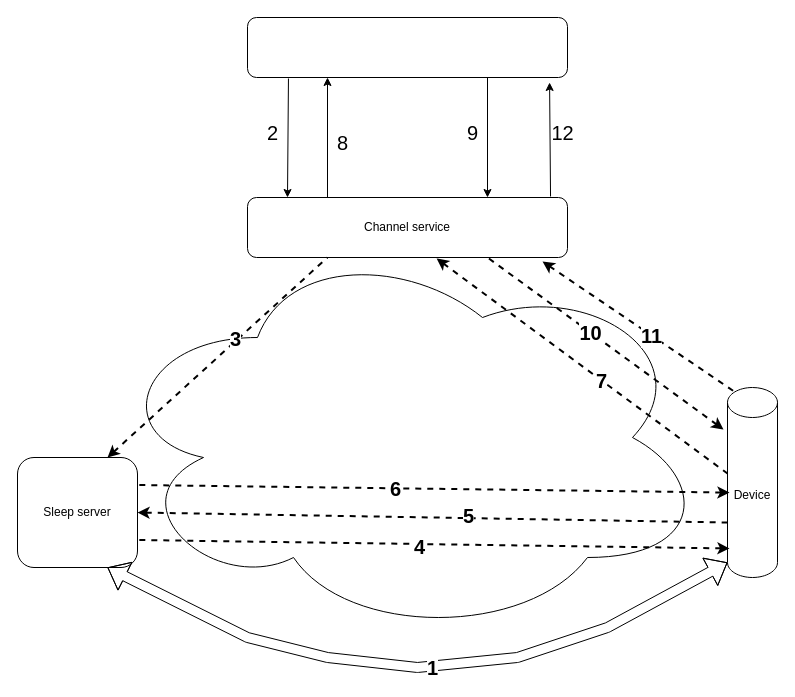
The diagram is 795 pixels wide and 697 high, and some of its shapes have lost their labels. Each missing label, with the centre of its shape:
Client: the point at 407,47
NATS: the point at 407,437
